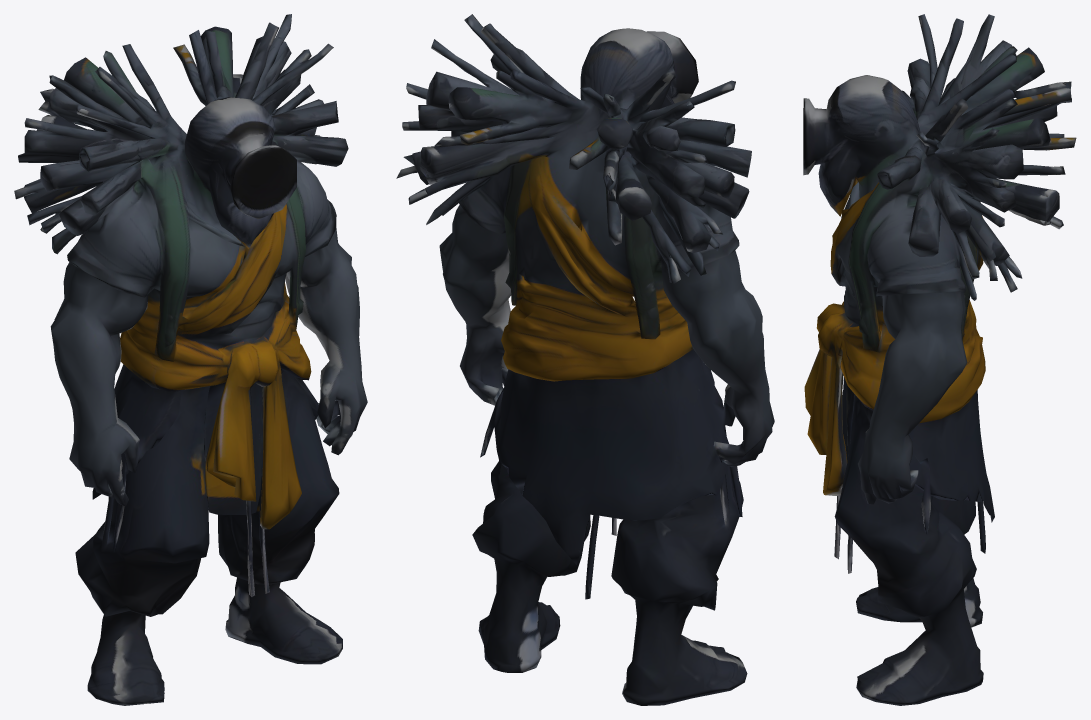
File: wood_A_h25.glb
3 views of the same model, side by side, from view 1: azimuth 30°, elevation 25°; view 2: azimuth 150°, elevation 25°; view 3: azimuth 270°, elevation 25° (orthographic). The views are drawn at different scales.
Parts seen in each view (by area): view 1: tripo_node_08cbbe13-83b4-44c2-9235-3cbf1fa150fa; view 2: tripo_node_08cbbe13-83b4-44c2-9235-3cbf1fa150fa; view 3: tripo_node_08cbbe13-83b4-44c2-9235-3cbf1fa150fa.
Part boxes in pixels (x1,y1,x2,y2): tripo_node_08cbbe13-83b4-44c2-9235-3cbf1fa150fa: (14, 14, 367, 705); tripo_node_08cbbe13-83b4-44c2-9235-3cbf1fa150fa: (396, 14, 774, 705); tripo_node_08cbbe13-83b4-44c2-9235-3cbf1fa150fa: (803, 14, 1076, 705).
Size of the model in its own units: 0.5379 by 1 by 0.4178.
Materials: 1 (1 with a texture image).
